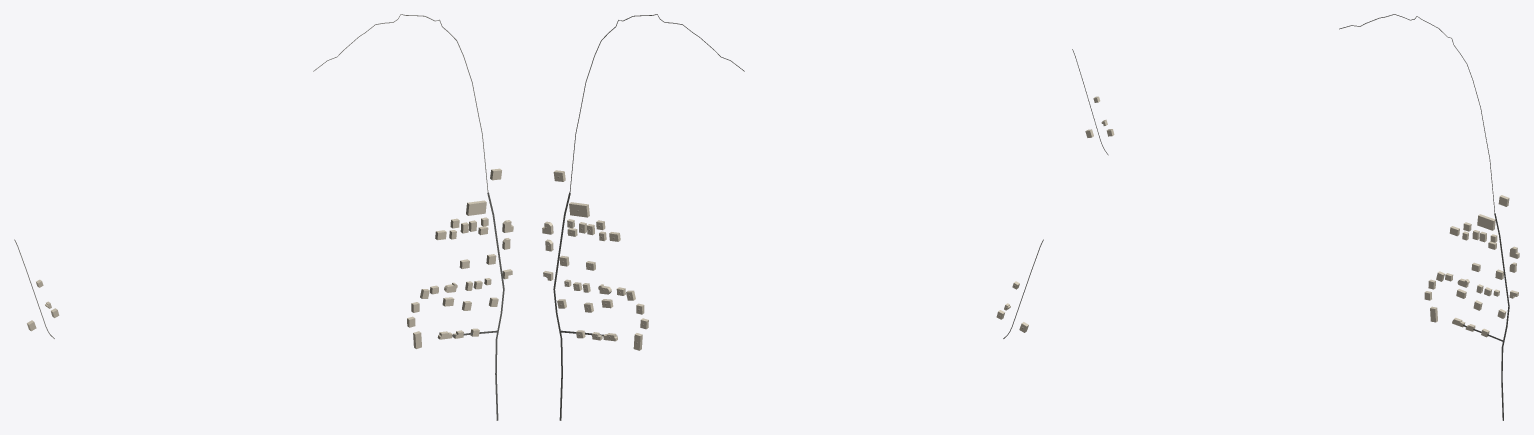
Rendered from historic-palestine-11_27_3525_3216.glb.
3 renders of one model, left to right at view 1: azimuth 30°, elevation 25°; view 2: azimuth 150°, elevation 25°; view 3: azimuth 330°, elevation 25°, orthographic. The views are drawn at different scales.
Visible parts, largest first — view 1: Road .002; view 2: Road .002; view 3: Road .002.
Boxes of the visible parts, x1,y1,x2,y2 form: Road .002: (487, 192, 504, 420); Road .002: (553, 192, 570, 420); Road .002: (1494, 213, 1509, 420).
Bounding box in the file's own units: 949 × 781 × 8.7.
